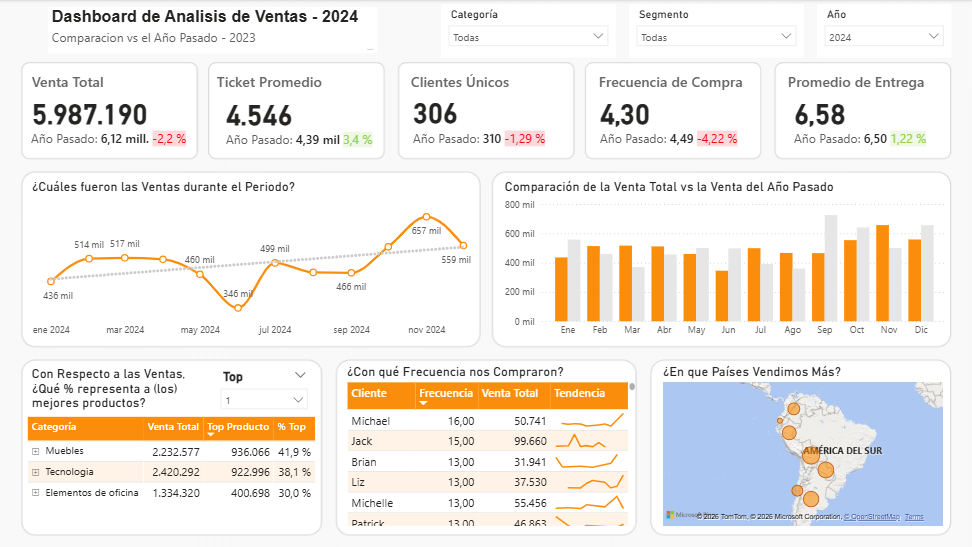

What the dashboard file says about the page in this screenshot:
{"tool":"powerbi","page":{"name":"Página 1","canvas":[1280,720],"ordinal":0},"visuals":[{"type":"textbox","box":[67.1,10,431.4,61.4],"z":0},{"type":"slicer","fields":{"Values":["Calendario6.Año"]},"box":[1072.9,7,175.7,70],"z":1000},{"type":"cardVisual","fields":{"Data":["Medidas-dax.Ventas Total"]},"box":[27.5,110,255,123.8],"z":2000},{"type":"cardVisual","fields":{"Data":["Medidas-dax.Ticket Promedio"]},"box":[282.5,110.7,244.6,123.8],"z":3000},{"type":"cardVisual","fields":{"Data":["Medidas-dax.Clientes Unicos"]},"box":[527.1,110,217.1,124.3],"z":4000},{"type":"cardVisual","fields":{"Data":["Medidas-dax.Frecuencia de Compra"]},"box":[772.9,110,222.9,124.3],"z":5000},{"type":"cardVisual","fields":{"Data":["Medidas-dax.Promedio de Entrega"]},"box":[1025.7,110,222.9,124.3],"z":6000},{"type":"textbox","box":[40,90,170,40],"z":7000},{"type":"textbox","box":[282.9,90,170,40],"z":8000},{"type":"textbox","box":[537.1,90,170,40],"z":9000},{"type":"textbox","box":[782.9,90,212.9,40],"z":10000},{"type":"textbox","box":[1030,90,212.9,40],"z":11000},{"type":"lineChart","title":"¿Cuáles fueron las Ventas durante el Periodo?","fields":{"Category":["Calendario6.Fecha.Variación.Jerarquía de fechas.Año","Calendario6.Fecha.Variación.Jerarquía de fechas.Mes"],"Y":["Medidas-dax.Venta Total"]},"box":[40,235,600,216.2],"z":12000},{"type":"clusteredColumnChart","title":"Comparación de la Venta Total vs la Venta del Año Pasado","fields":{"Category":["Calendario6.Mes Abreviado"],"Y":["Medidas-dax.Venta Total","Medidas-dax.Año Pasado (V.T)"]},"box":[660,235,588.8,216.2],"z":13000},{"type":"pivotTable","fields":{"Rows":["Productos2.Categoría","Productos2.Productos"],"Values":["Medidas-dax.Venta Total","Medidas-dax.Top Producto por Categoria","Medidas-dax.% Top Porducto - Venta Total"]},"box":[35.7,541.4,417.1,130],"z":14000},{"type":"slicer","fields":{"Values":["Top.Top"]},"box":[282.9,478.6,134.3,71.4],"z":15000},{"type":"textbox","box":[40,475.7,242.9,74.3],"z":15001},{"type":"tableEx","title":"¿Con qué Frecuencia nos Compraron?","fields":{"Values":["Cliente4.Nombre_Cliente","Medidas-dax.Frecuencia de Compra","Medidas-dax.Venta Total","SparklineData(Medidas-dax.Venta Total_[Calendario6.Mes Num])"]},"box":[453.3,478.3,388.3,216.7],"z":15002},{"type":"map","title":"¿En que Países Vendimos Más? ","fields":{"Category":["Región5.Región"],"Size":["Medidas-dax.Venta Total"]},"box":[866.7,478.3,376.7,216.7],"z":15003},{"type":"slicer","fields":{"Values":["Productos2.Categoría"]},"box":[581.4,7.1,228.6,70],"z":15004},{"type":"slicer","fields":{"Values":["Segmento3.Segmento"]},"box":[827.1,7.1,228.6,70],"z":15005}]}

Visuals, with their boxes in screenshot pixels (x1, y1, x2, y2), scaled from the page's 1280x720 canvas onto the 972x547 screenshot:
textbox: x1=51, y1=8, x2=379, y2=54
slicer - Calendario6.Año: x1=815, y1=5, x2=948, y2=58
cardVisual - Medidas-dax.Ventas Total: x1=21, y1=84, x2=215, y2=178
cardVisual - Medidas-dax.Ticket Promedio: x1=215, y1=84, x2=400, y2=178
cardVisual - Medidas-dax.Clientes Unicos: x1=400, y1=84, x2=565, y2=178
cardVisual - Medidas-dax.Frecuencia de Compra: x1=587, y1=84, x2=756, y2=178
cardVisual - Medidas-dax.Promedio de Entrega: x1=779, y1=84, x2=948, y2=178
textbox: x1=30, y1=68, x2=159, y2=99
textbox: x1=215, y1=68, x2=344, y2=99
textbox: x1=408, y1=68, x2=537, y2=99
textbox: x1=595, y1=68, x2=756, y2=99
textbox: x1=782, y1=68, x2=944, y2=99
"¿Cuáles fueron las Ventas durante el Periodo?" lineChart: x1=30, y1=179, x2=486, y2=343
"Comparación de la Venta Total vs la Venta del Año Pasado" clusteredColumnChart: x1=501, y1=179, x2=948, y2=343
pivotTable - Productos2.Categoría x Productos2.Productos: x1=27, y1=411, x2=344, y2=510
slicer - Top.Top: x1=215, y1=364, x2=317, y2=418
textbox: x1=30, y1=361, x2=215, y2=418
"¿Con qué Frecuencia nos Compraron?" tableEx: x1=344, y1=363, x2=639, y2=528
"¿En que Países Vendimos Más? " map: x1=658, y1=363, x2=944, y2=528
slicer - Productos2.Categoría: x1=442, y1=5, x2=615, y2=59
slicer - Segmento3.Segmento: x1=628, y1=5, x2=802, y2=59
